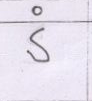anusvara: (32, 7, 42, 15)
